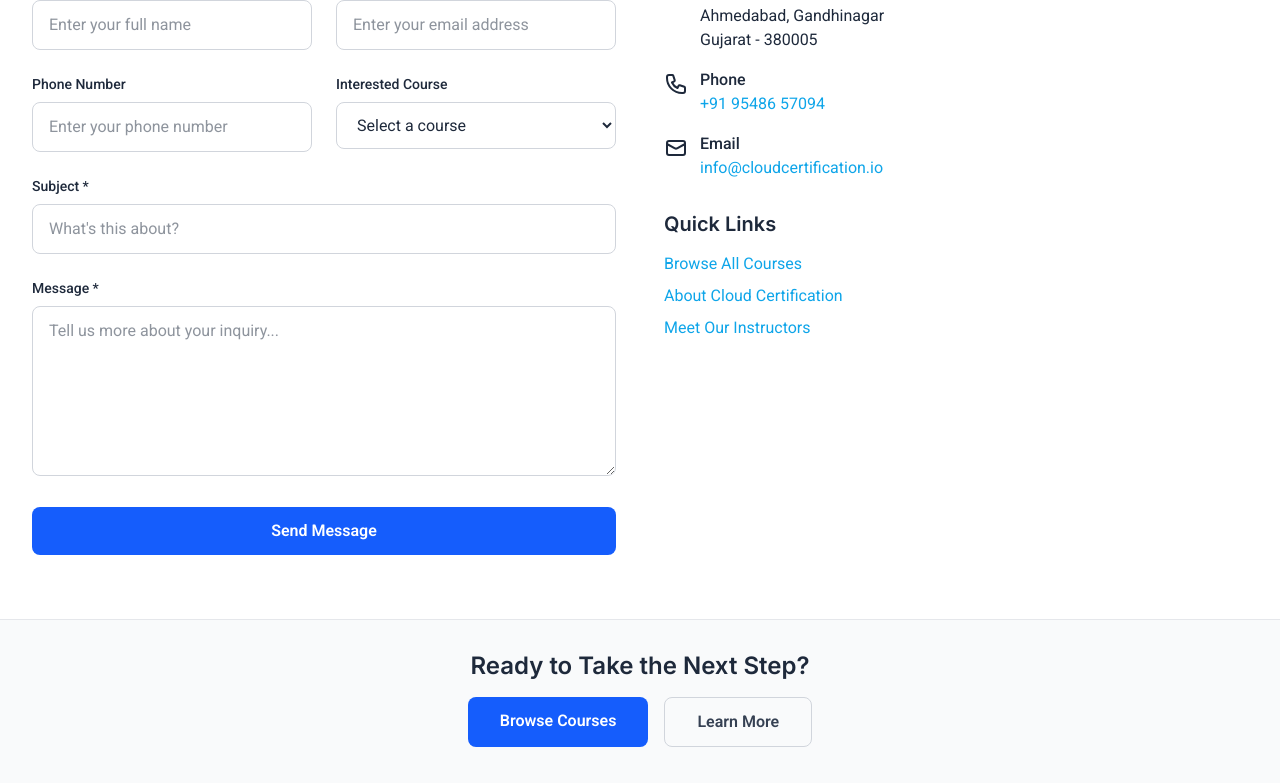
Test case: Contact Page › should validate message length
(page scrolled)
Note: Enter short message
Type "short" into the text box labelled "Message *" at {"x": 324, "y": 391}, box [32,306,616,476]
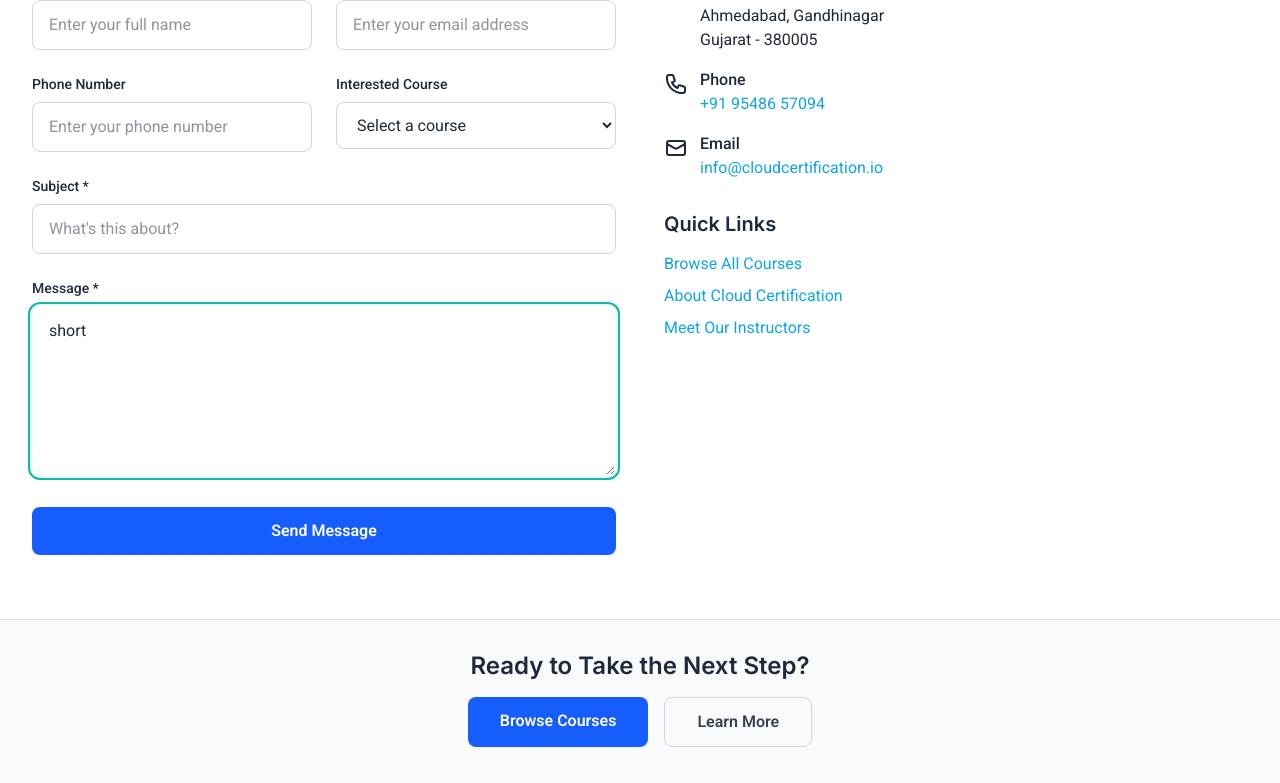
Click the button "Send Message" at {"x": 324, "y": 531}, box [32,507,616,555]
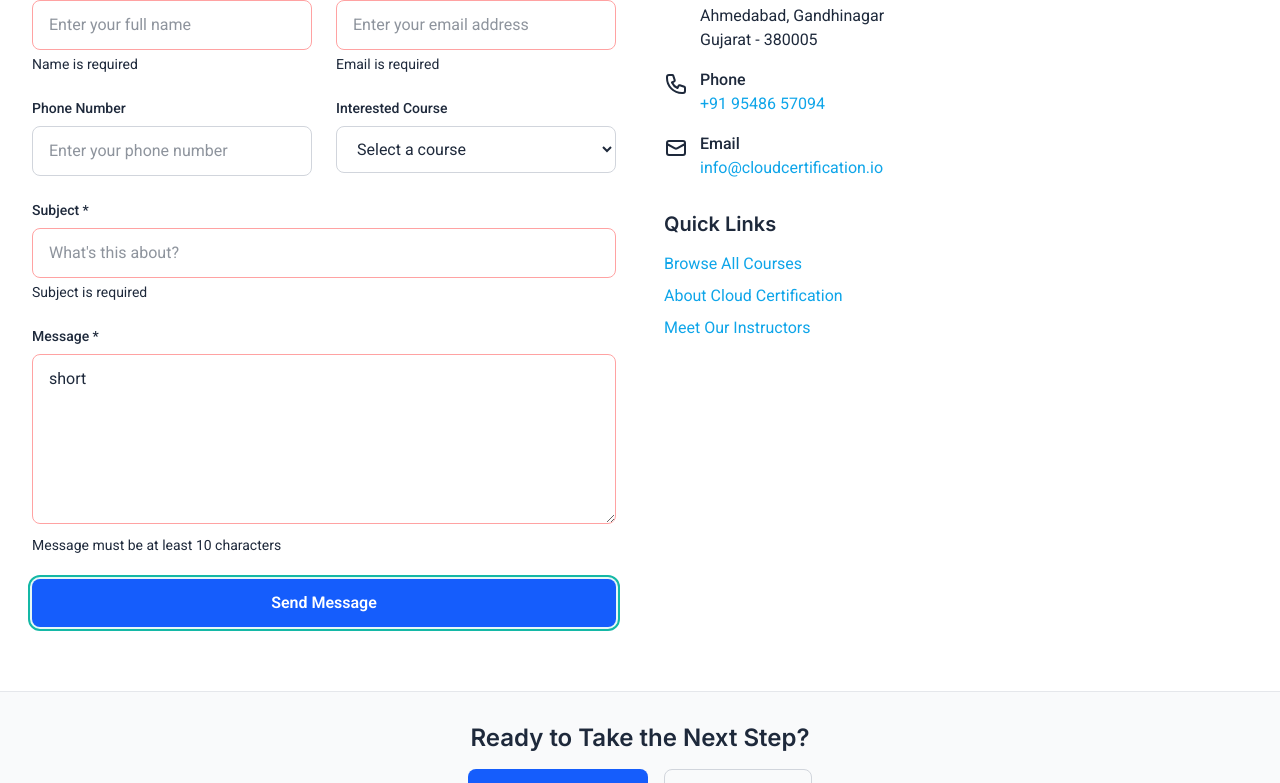
Now the text "Message must be at least 10 characters" is shown, box [32,537,281,553]
